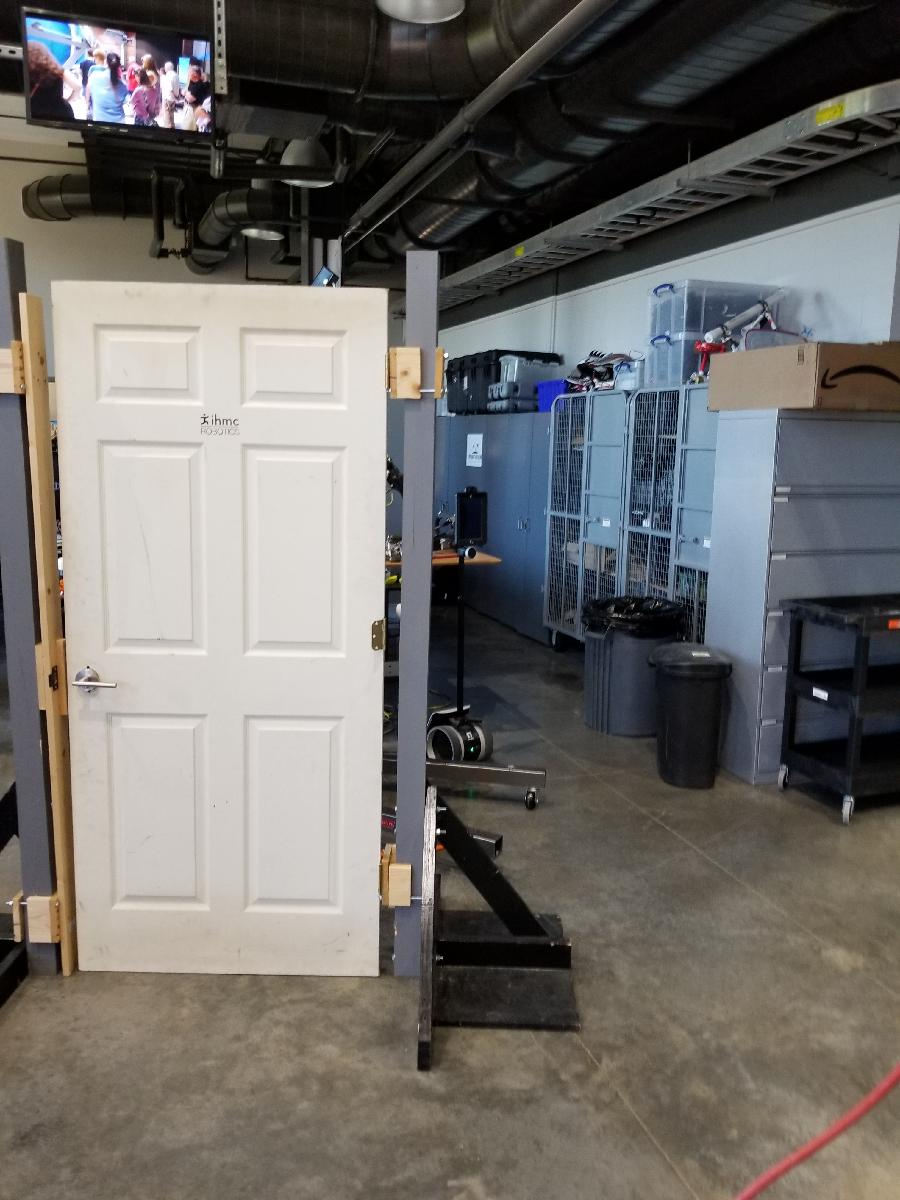door: (45, 277, 399, 987)
doorHandle: (68, 668, 117, 701)
